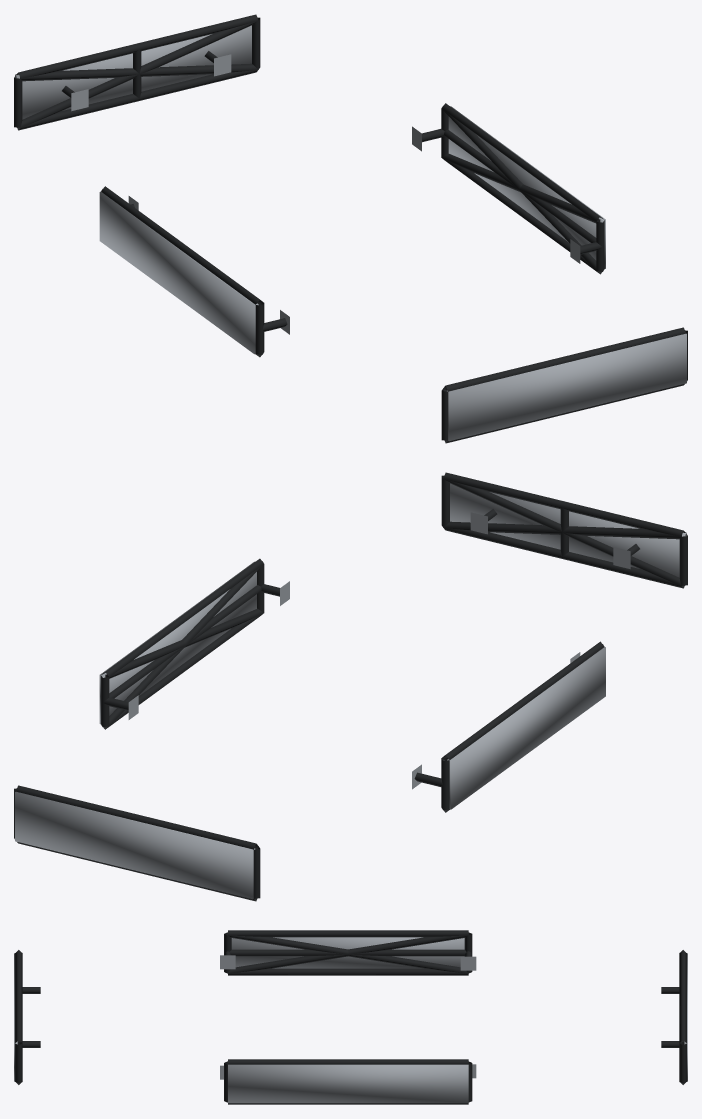
File: whitlock_lamina_protecao.glb
3 views of the same model, one above another, from view 1: azimuth 30°, elevation 25°; view 2: azimuth 150°, elevation 25°; view 3: azimuth 270°, elevation 25° (orthographic). The views are drawn at different scales.
Visible parts, largest first — view 1: Protection_front_Level3_Details, Protection_left_Level3_Details, Protection_rear_Level1_Details, Protection_rear_Level3_Details, Protection_right_Level1_Details, Protection_rear_Level2_Details, Protection_right_Level2_Details, Protection_right_Level3_Details, Protection_front_Level1_Details, Protection_left_Level1_Details; view 2: Protection_rear_Level3_Details, Protection_left_Level3_Details, Protection_front_Level1_Details, Protection_front_Level3_Details, Protection_right_Level1_Details, Protection_front_Level2_Details, Protection_right_Level2_Details, Protection_right_Level3_Details, Protection_rear_Level1_Details, Protection_left_Level1_Details; view 3: Protection_right_Level3_Details, Protection_left_Level2_Details, Protection_left_Level1_Details, Protection_left_Level3_Details, Protection_right_Level1_Details, Protection_rear_Level1_Details, Protection_front_Level1_Details.
Boxes of the visible parts, bbox=[...] form: Protection_front_Level3_Details: bbox=[446, 333, 686, 441]; Protection_left_Level3_Details: bbox=[99, 191, 258, 354]; Protection_rear_Level1_Details: bbox=[14, 14, 260, 130]; Protection_rear_Level3_Details: bbox=[15, 25, 251, 119]; Protection_right_Level1_Details: bbox=[412, 103, 604, 274]; Protection_rear_Level2_Details: bbox=[16, 21, 258, 129]; Protection_right_Level2_Details: bbox=[441, 109, 603, 273]; Protection_right_Level3_Details: bbox=[448, 106, 605, 268]; Protection_front_Level1_Details: bbox=[441, 327, 687, 443]; Protection_left_Level1_Details: bbox=[101, 186, 289, 357]; Protection_rear_Level3_Details: bbox=[15, 791, 255, 899]; Protection_left_Level3_Details: bbox=[447, 647, 605, 809]; Protection_front_Level1_Details: bbox=[441, 472, 687, 588]; Protection_front_Level3_Details: bbox=[450, 483, 686, 577]; Protection_right_Level1_Details: bbox=[101, 558, 289, 729]; Protection_front_Level2_Details: bbox=[443, 479, 685, 587]; Protection_right_Level2_Details: bbox=[101, 564, 263, 729]; Protection_right_Level3_Details: bbox=[99, 561, 256, 724]; Protection_rear_Level1_Details: bbox=[14, 785, 260, 901]; Protection_left_Level1_Details: bbox=[412, 641, 604, 812]; Protection_right_Level3_Details: bbox=[228, 1064, 468, 1103]; Protection_left_Level2_Details: bbox=[227, 932, 468, 973]; Protection_left_Level1_Details: bbox=[220, 930, 476, 975]; Protection_left_Level3_Details: bbox=[231, 937, 464, 968]; Protection_right_Level1_Details: bbox=[220, 1059, 476, 1104]; Protection_rear_Level1_Details: bbox=[661, 950, 686, 1084]; Protection_front_Level1_Details: bbox=[15, 950, 40, 1084].
Bounding box in the file's own units: 2.24 × 0.354 × 4.79.
Materials: 1 (1 with a texture image).
